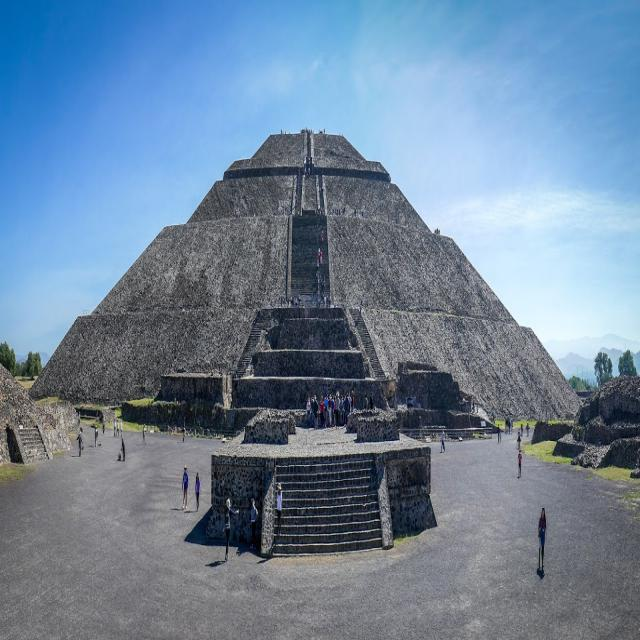body: (223, 496, 240, 564), (536, 505, 548, 575), (276, 124, 330, 138), (276, 289, 304, 310), (314, 201, 348, 216), (315, 245, 325, 292), (250, 496, 258, 552), (180, 462, 189, 511), (276, 481, 282, 537), (312, 394, 320, 431), (194, 470, 201, 512), (316, 291, 333, 308), (503, 413, 514, 436), (334, 390, 340, 430), (302, 152, 312, 176), (306, 395, 312, 431), (346, 390, 352, 425), (76, 430, 83, 458), (319, 394, 324, 430), (324, 393, 329, 429), (432, 222, 443, 238), (344, 391, 349, 426), (120, 434, 126, 462), (330, 396, 335, 428), (232, 364, 240, 384), (339, 394, 344, 425), (440, 429, 446, 453), (328, 393, 332, 427), (333, 395, 337, 428), (516, 427, 522, 449), (342, 394, 346, 426), (364, 392, 368, 424), (234, 204, 242, 220), (337, 128, 346, 142), (518, 449, 522, 480), (310, 395, 314, 426), (344, 290, 350, 308), (94, 424, 98, 448), (142, 423, 146, 447), (350, 390, 354, 414), (358, 296, 364, 312), (525, 421, 531, 437), (370, 391, 374, 410), (77, 408, 81, 427), (491, 409, 495, 428), (182, 419, 185, 443), (318, 182, 324, 194), (497, 422, 500, 445), (102, 412, 105, 435), (520, 422, 524, 438), (113, 417, 116, 437), (361, 206, 366, 218), (394, 215, 400, 225), (116, 418, 119, 437), (472, 398, 476, 412), (321, 227, 324, 242), (295, 207, 300, 216), (288, 208, 292, 218), (353, 208, 357, 218), (120, 418, 122, 437), (295, 194, 298, 206), (476, 397, 478, 414), (500, 429, 502, 445), (388, 210, 390, 223), (350, 394, 352, 399), (178, 222, 181, 225)
